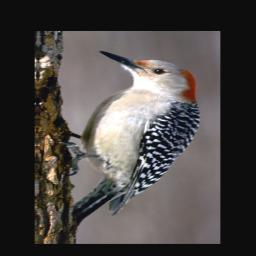Woodpecker: (59, 50, 202, 218)
